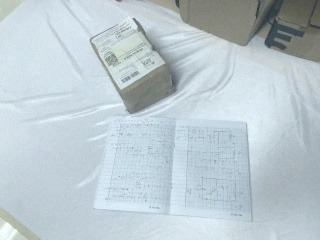box: (87, 15, 175, 115), (175, 1, 285, 46), (264, 1, 320, 65)
